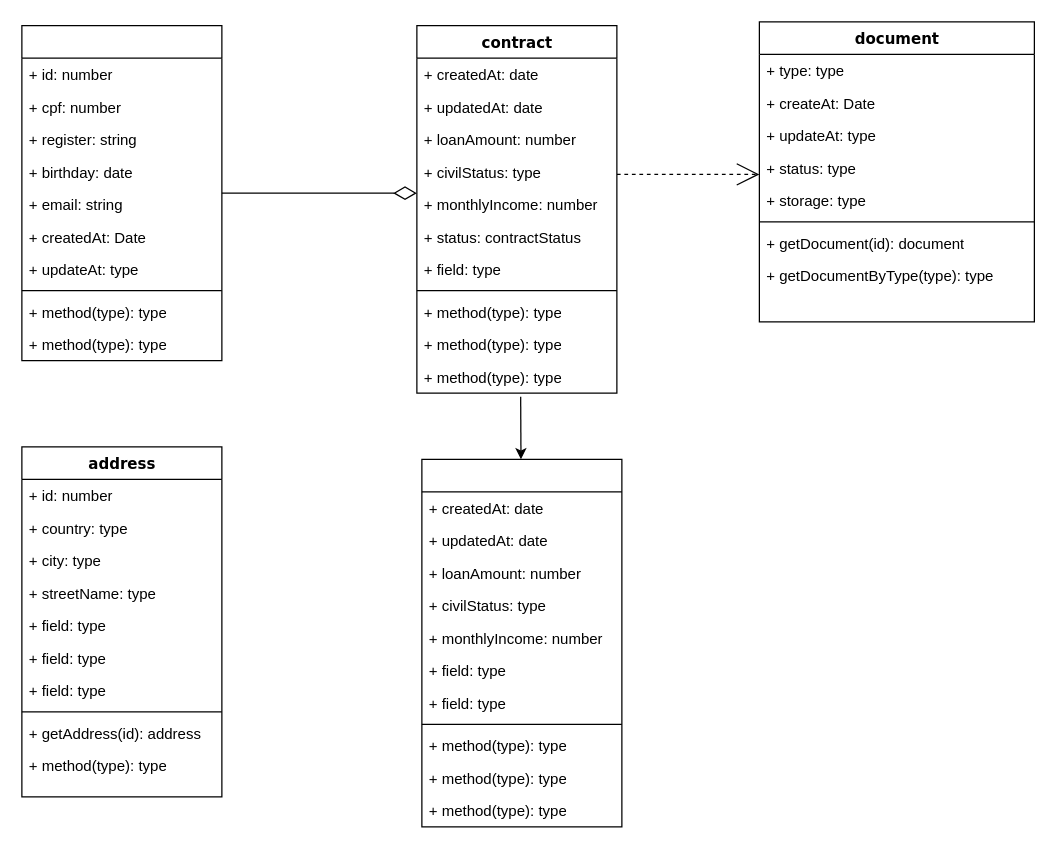
Some shapes in this 1056 by 853 pixel diagram are drawn without their labels. The box of each missing label's shape, as (x1, y1, x2, y2) in pixels:
contractStatus: (421, 458, 622, 827)
User: (21, 24, 222, 361)
